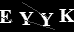E: (1, 8, 12, 24)
K: (58, 8, 74, 22)
Y: (18, 11, 34, 26), (38, 12, 54, 27)
